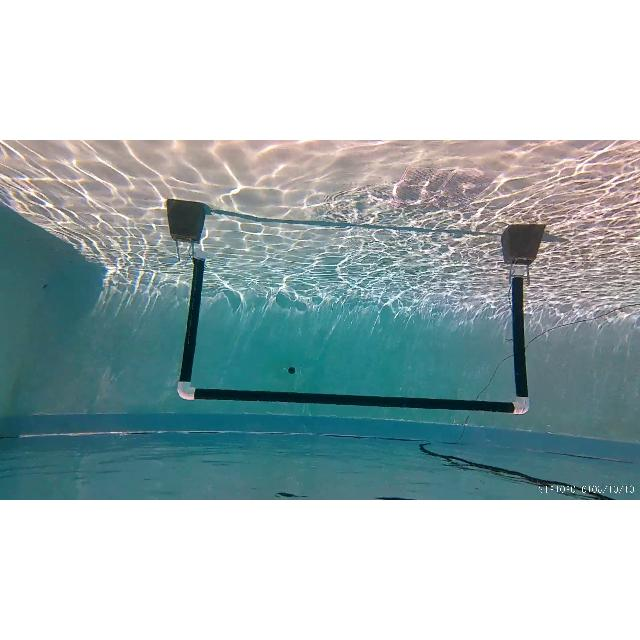prequal gate: (176, 248, 530, 414)
prequal gate leg l: (511, 253, 532, 414)
prequal gate leg r: (175, 251, 211, 404)
